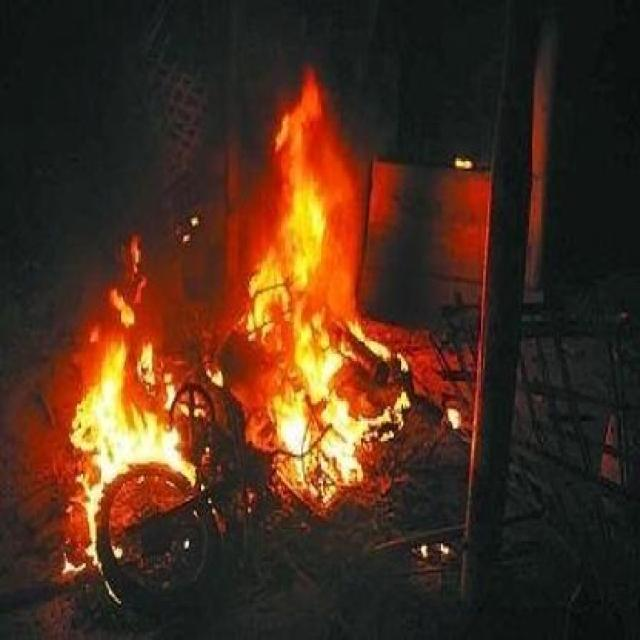Fire: (49, 66, 476, 581)
